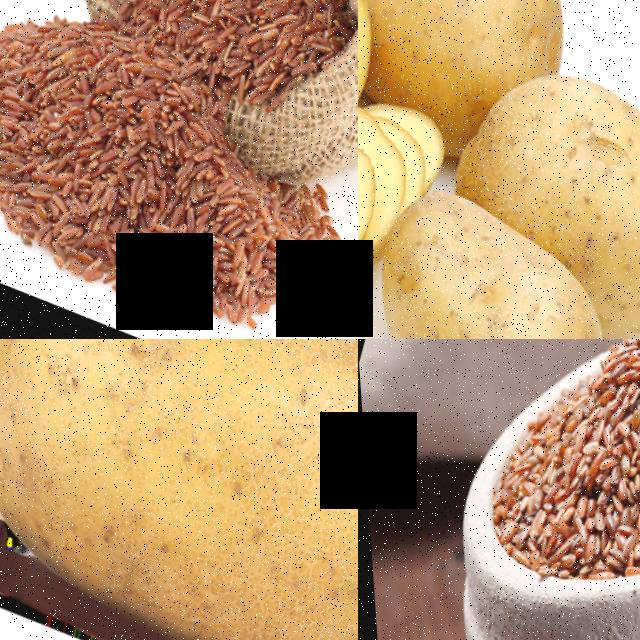potato: (0, 339, 358, 640), (453, 34, 640, 320), (358, 168, 617, 339), (358, 0, 597, 96)
red rice: (0, 0, 256, 316), (456, 339, 640, 640), (154, 142, 354, 339), (102, 0, 355, 114)
